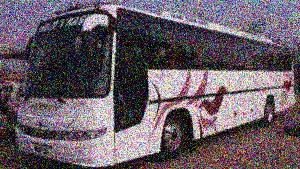bus: (11, 0, 297, 169)
